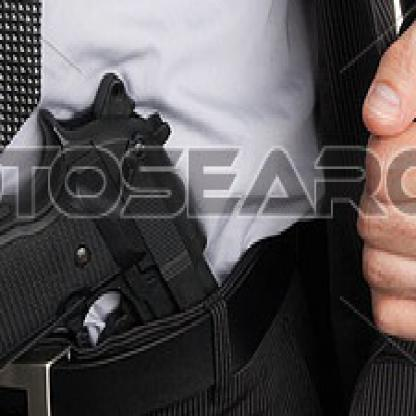gun: (0, 77, 254, 414)
